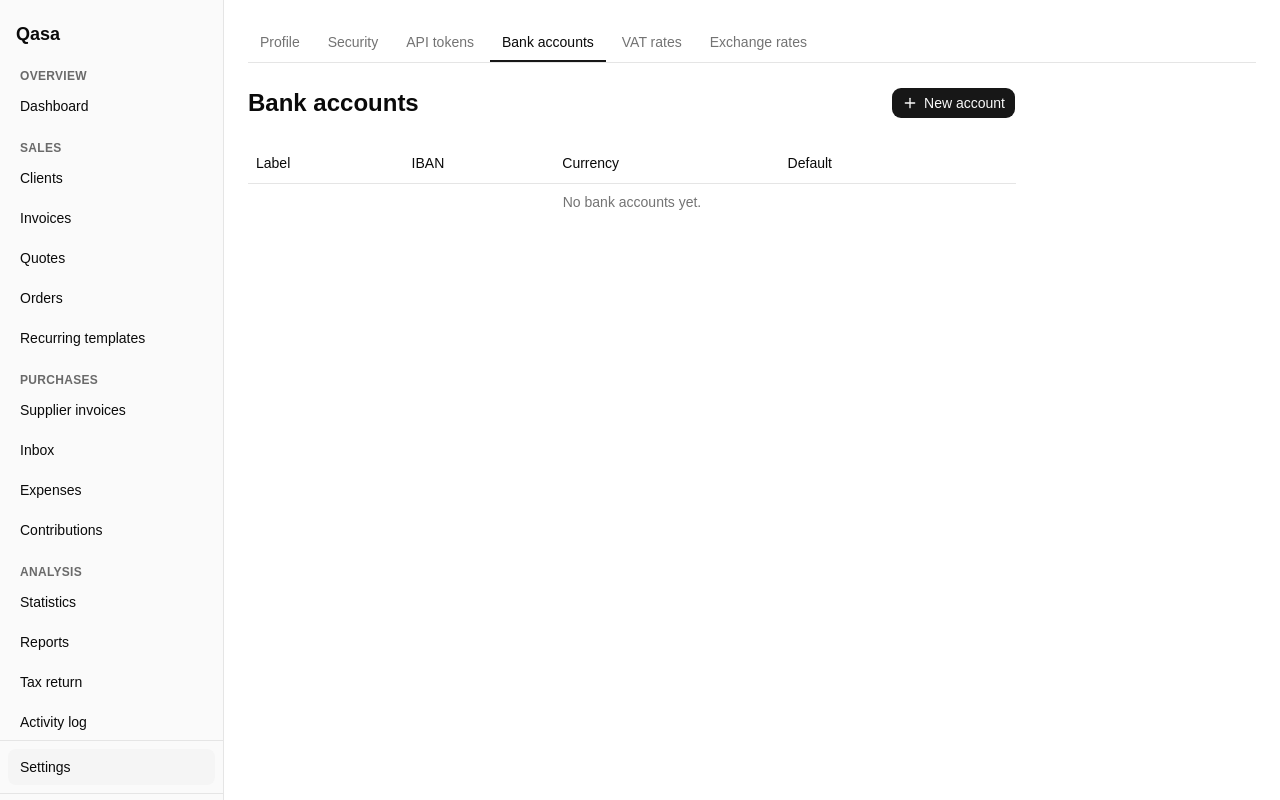
Test: bank accounts settings › creates a bank account
Click the button "New account": click(954, 103) [891,87,1016,119]
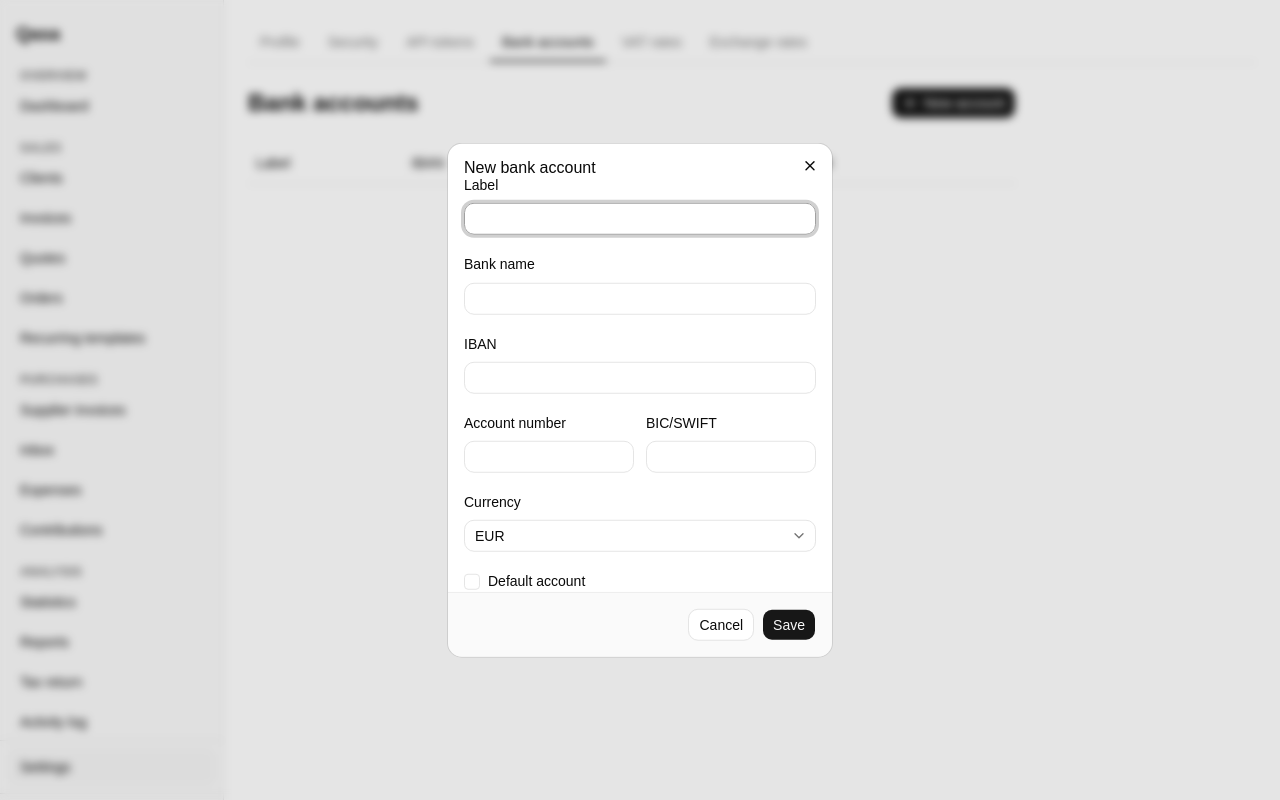
In the field labelled "Label": (640, 219) [464,203,816,235], type "Main account"
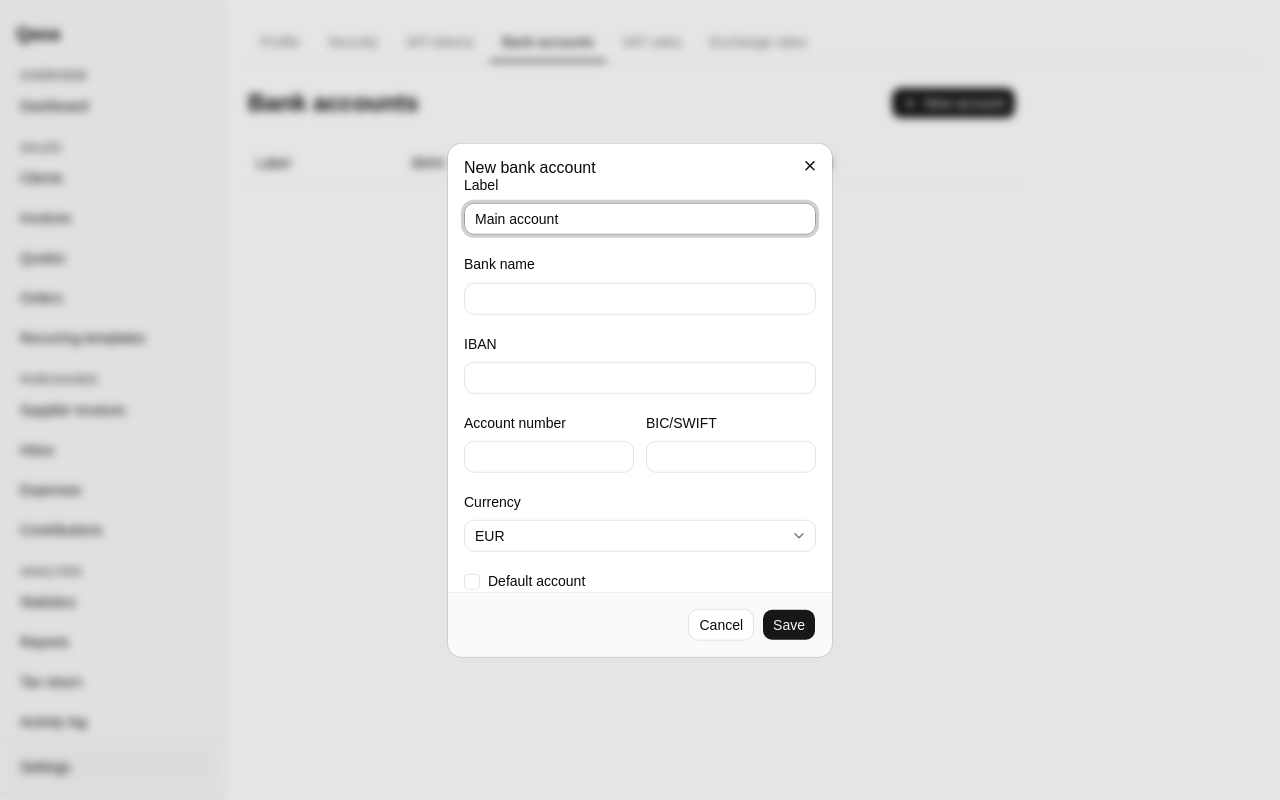
In the field labelled "IBAN": (640, 378) [464,362,816,394], type "SK1234567890123456789012"
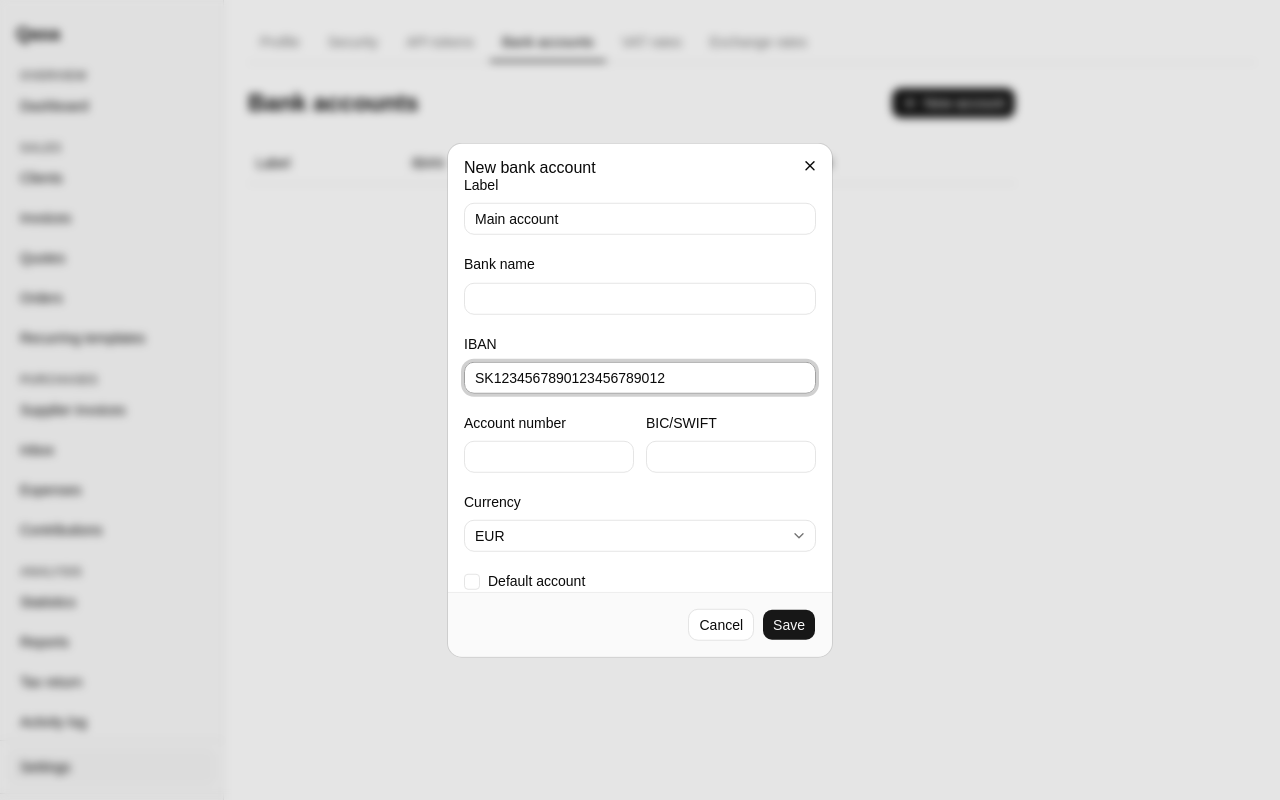
Click the button "Save": click(789, 624) [762,608,816,640]
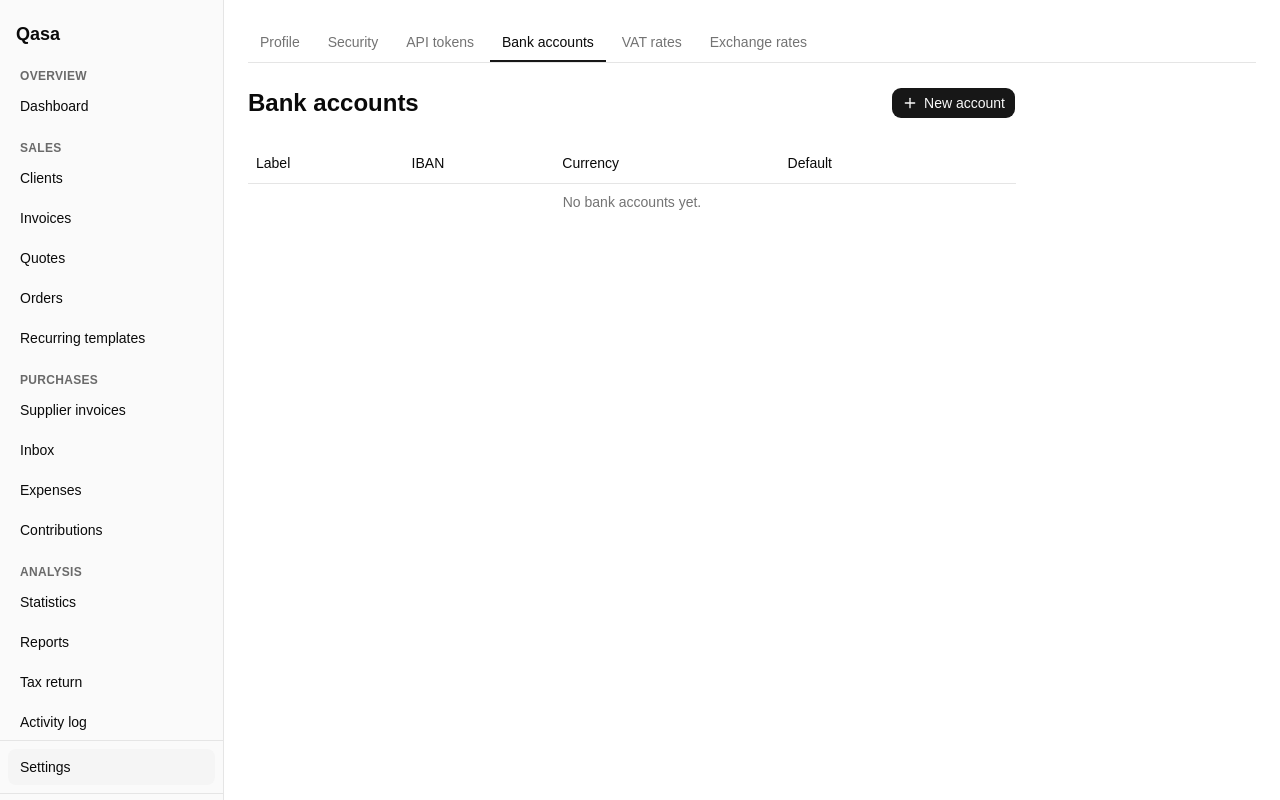
expect the dialog is gone: met
